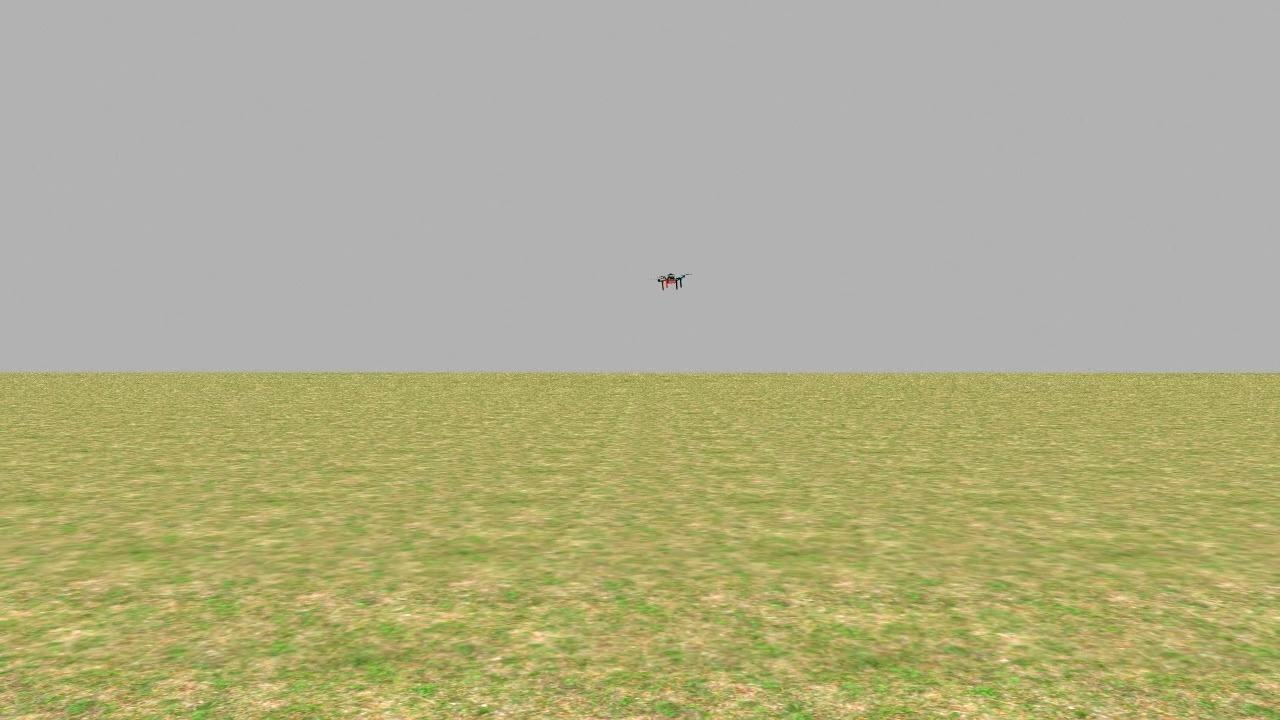UAV: (648, 264, 691, 302)
